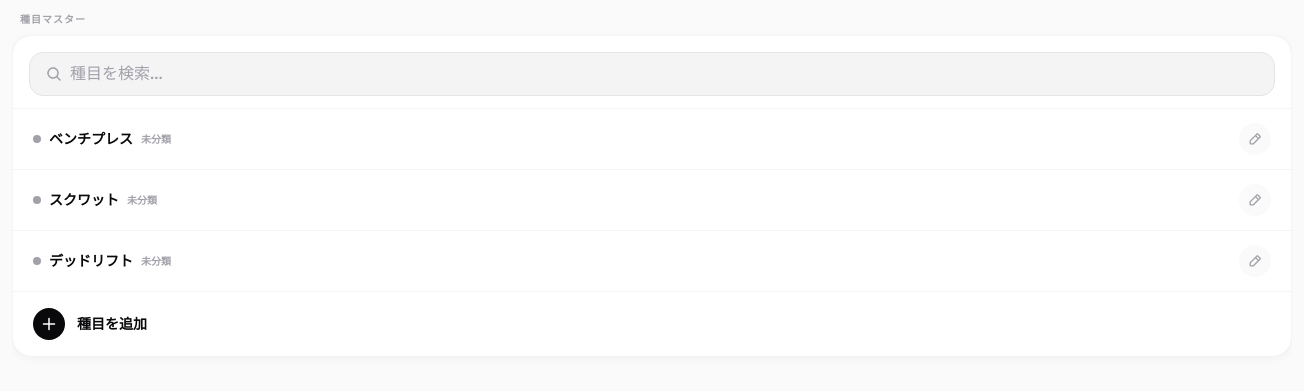
ExerciseMasterSection › 編集ボタンで種目を編集する
This screenshot has width=1304, height=391.
Click the button named "ベンチプレスを編集" at (1255, 139), box [1239, 123, 1271, 155]
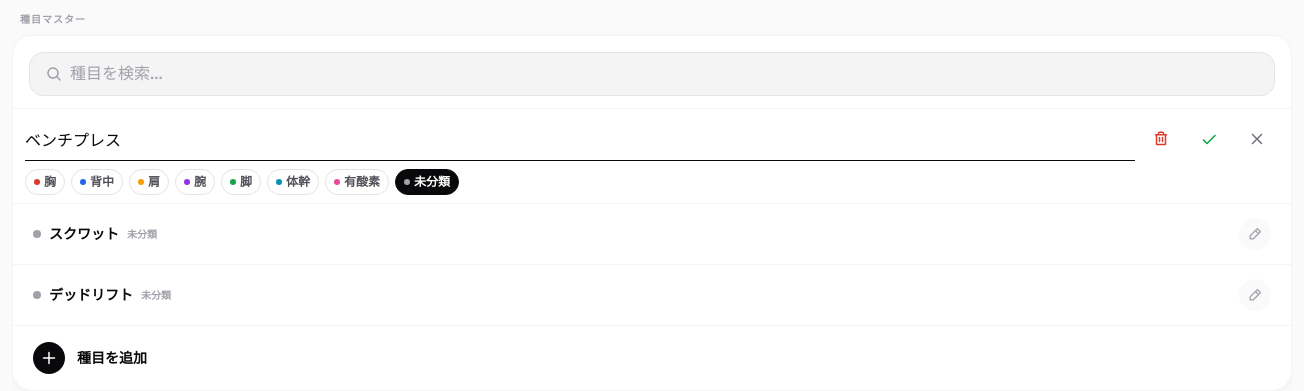
Replace the text in the field named "種目名を編集" with "インクラインベンチ" at (580, 139), box [25, 117, 1135, 161]
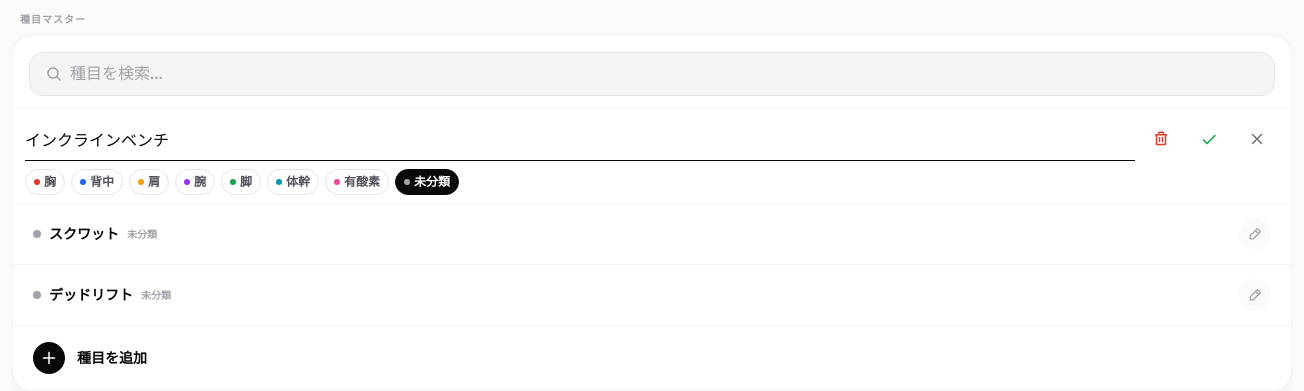
Click the button named "編集を確定" at (1209, 139), box [1187, 117, 1231, 161]
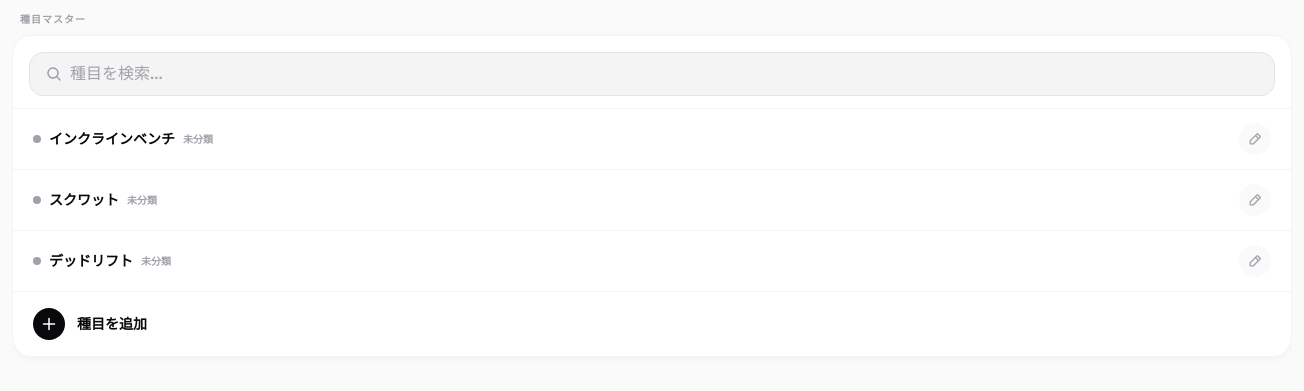
Expected: the text "ベンチプレス" is not shown
Expected: the text "インクラインベンチ" is shown, [49, 129, 175, 149]
